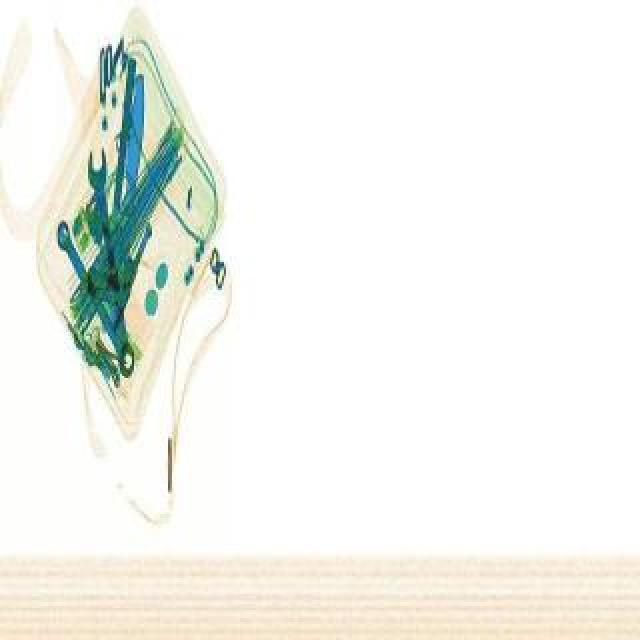gun: (76, 208, 158, 310)
knife: (122, 72, 146, 240)
scissors: (48, 216, 142, 376), (84, 148, 140, 376)
